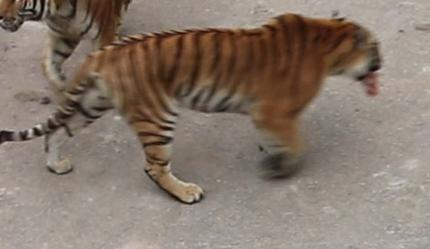tiger: (0, 13, 380, 202)
